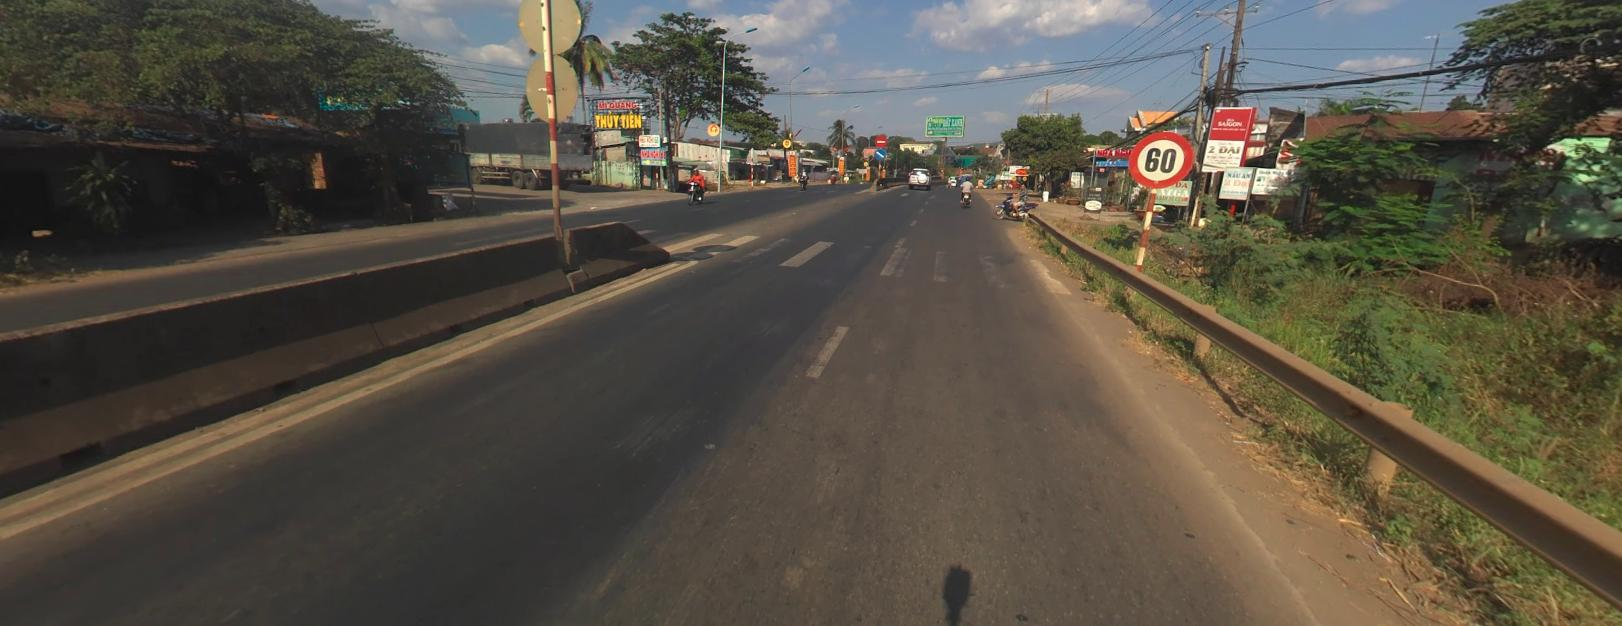Cam nguoc chieu: (874, 133, 887, 145), (875, 135, 887, 146)
Gioi han toc do: (1127, 127, 1194, 188), (1127, 127, 1194, 186)
Hieu lenh: (873, 147, 887, 159), (873, 146, 885, 159)
